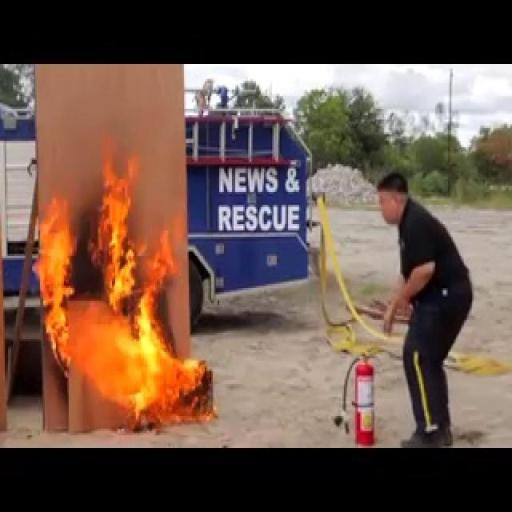smoke: (23, 102, 214, 432)
